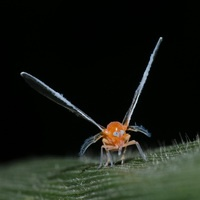insect: (20, 37, 162, 162)
